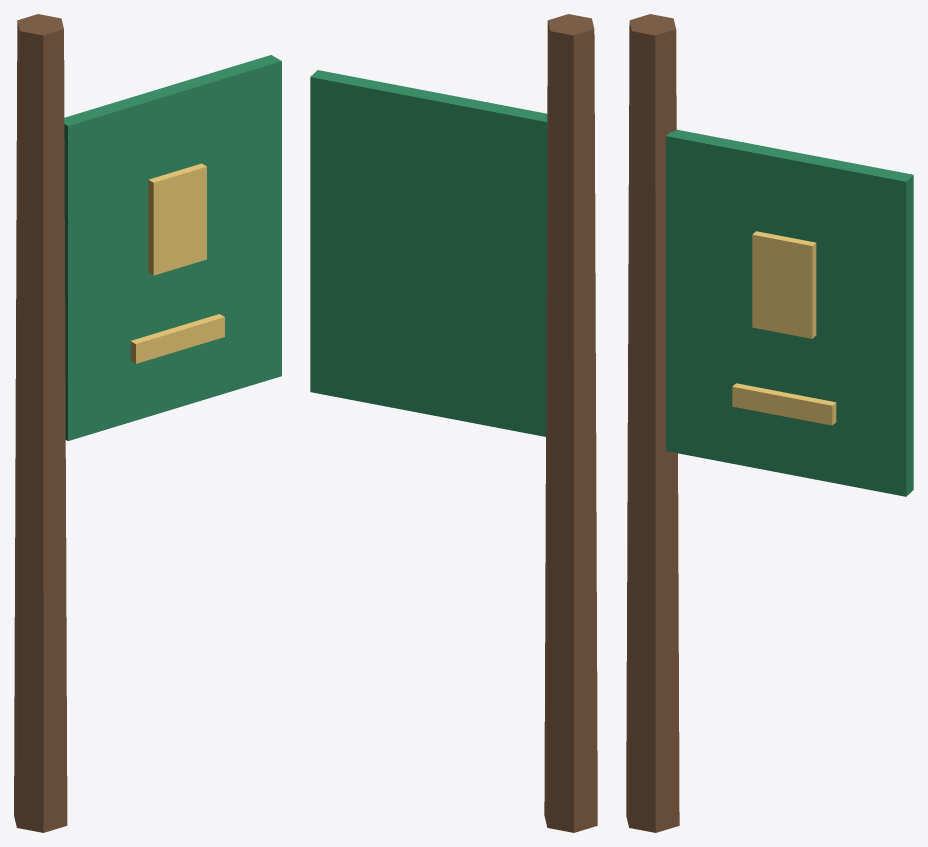
File: thornveil_verdant_banner.glb
The picture shows the model from 3 angles, left to right: view 1: azimuth 30°, elevation 25°; view 2: azimuth 150°, elevation 25°; view 3: azimuth 330°, elevation 25°; orthographic projection.
Parts seen in each view (by area): view 1: PREFAB_thornveil_verdant_banner_00_SCENE_VillageProps_Verdan; view 2: PREFAB_thornveil_verdant_banner_00_SCENE_VillageProps_Verdan; view 3: PREFAB_thornveil_verdant_banner_00_SCENE_VillageProps_Verdan.
Part boxes in pixels (x1,y1,x2,y2): PREFAB_thornveil_verdant_banner_00_SCENE_VillageProps_Verdan: (14, 14, 281, 832); PREFAB_thornveil_verdant_banner_00_SCENE_VillageProps_Verdan: (310, 14, 597, 832); PREFAB_thornveil_verdant_banner_00_SCENE_VillageProps_Verdan: (626, 14, 913, 832).
Bounding box in the file's own units: 0.9634 × 2.69 × 0.1745.
